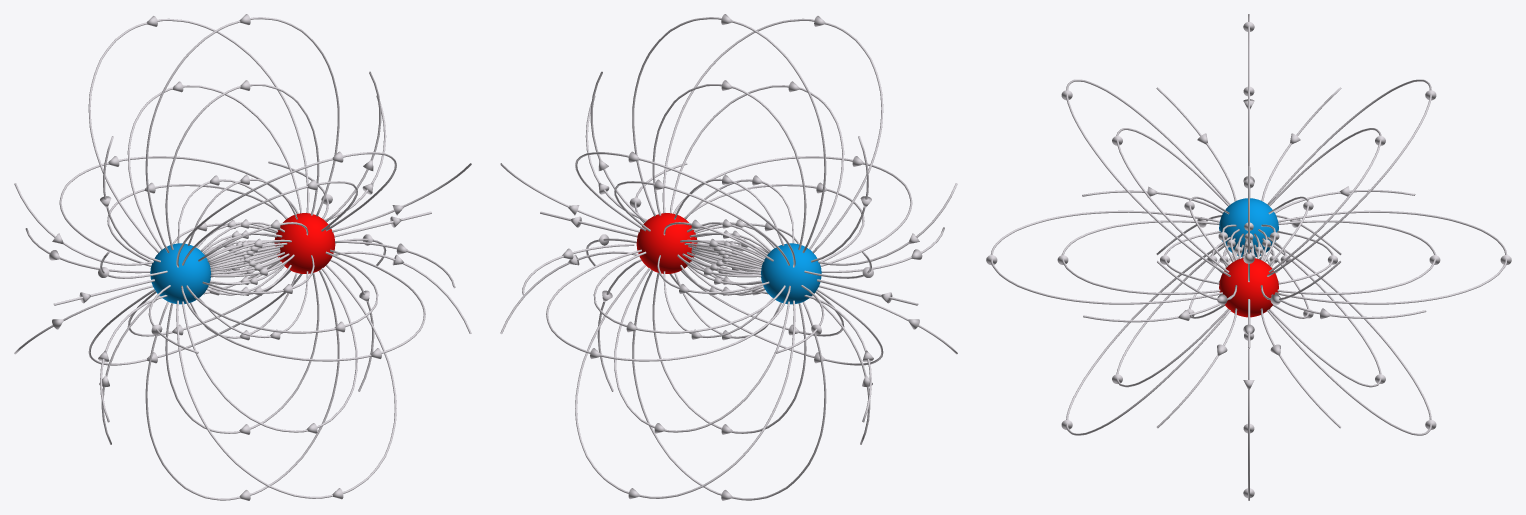
File: dipolo.fbx
The picture shows the model from 3 angles, left to right: view 1: azimuth 30°, elevation 25°; view 2: azimuth 150°, elevation 25°; view 3: azimuth 270°, elevation 25°; orthographic projection. The views are drawn at different scales.
Visible parts, largest first — view 1: Cylinder.006, Cylinder.000, Sphere.000, Sphere.001, Torus.007, Torus.014; view 2: Cylinder.006, Cylinder.000, Sphere.000, Sphere.001, Torus.002, Torus.011; view 3: Cylinder.000, Cylinder.006, Sphere.001, Sphere.000.
Boxes of the visible parts, box(x1,y1,x2,y2) form: Cylinder.006: box(59, 14, 425, 500); Cylinder.000: box(88, 16, 396, 499); Sphere.000: box(150, 243, 210, 304); Sphere.001: box(274, 213, 335, 273); Torus.007: box(14, 183, 153, 265); Torus.014: box(333, 251, 471, 333); Cylinder.006: box(546, 14, 912, 500); Cylinder.000: box(575, 16, 883, 499); Sphere.000: box(761, 243, 821, 304); Sphere.001: box(636, 213, 697, 273); Torus.002: box(818, 183, 957, 265); Torus.011: box(500, 251, 638, 333); Cylinder.000: box(1061, 79, 1436, 435); Cylinder.006: box(986, 14, 1511, 500); Sphere.001: box(1219, 258, 1278, 317); Sphere.000: box(1219, 198, 1278, 256).
Bounding box in the file's own units: 1214 × 1496 × 1496.
